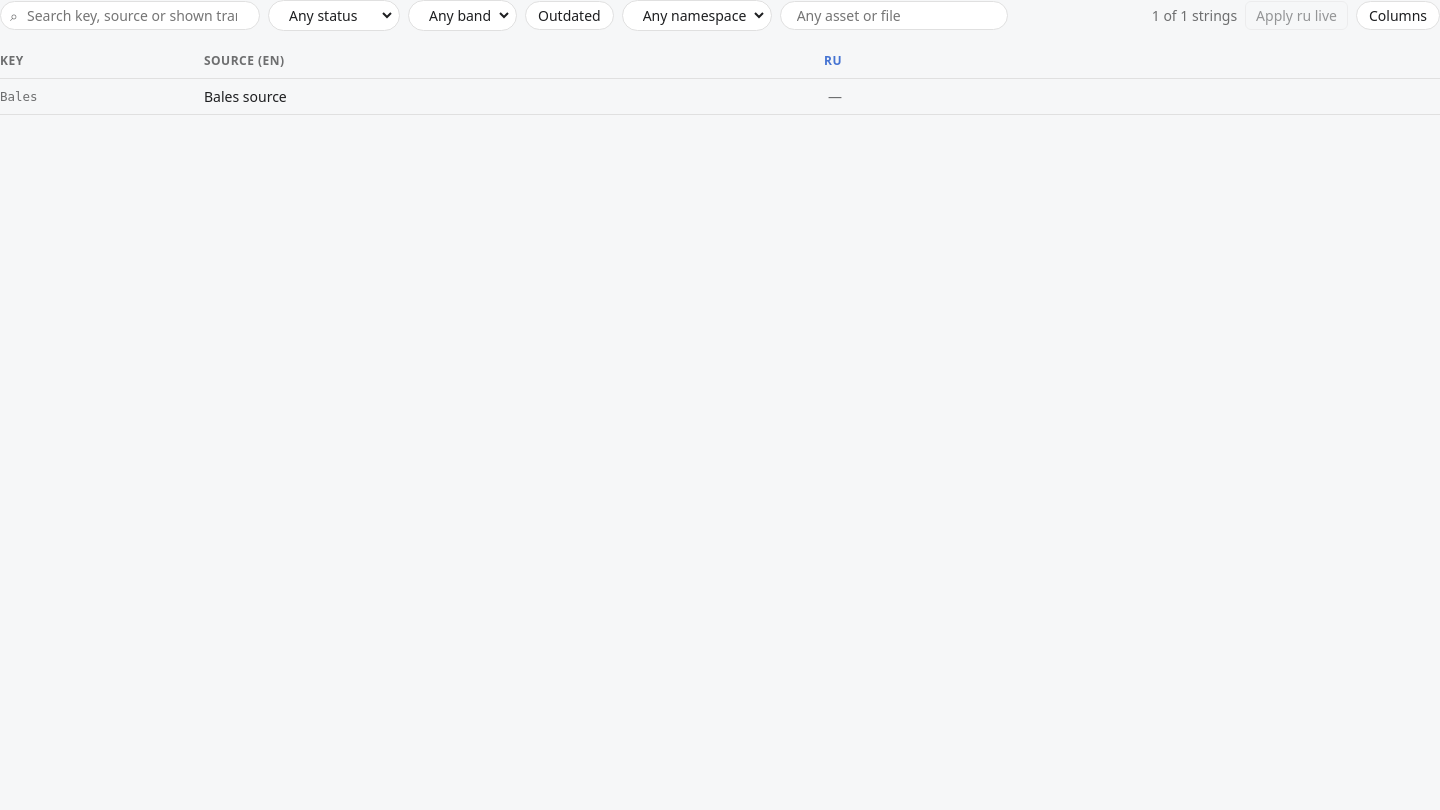
it: GridView › key details popover › offers "Copy path" and no Open button when the editor is disconnected
Step 1. Click the button "Bales" → (100, 96), box [0,89,200,104]
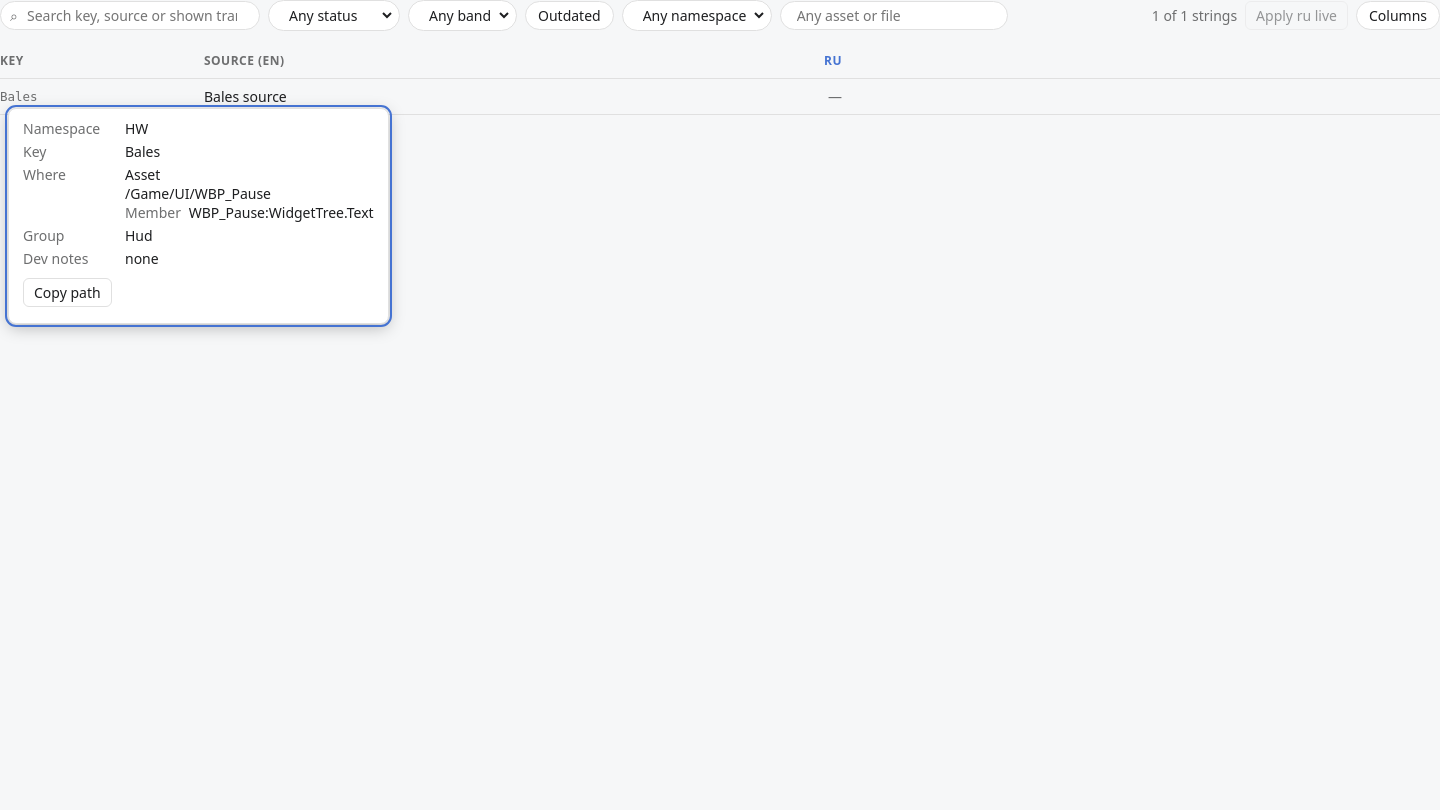
Expected: the button "Copy path" is shown, [23,278,112,307]
